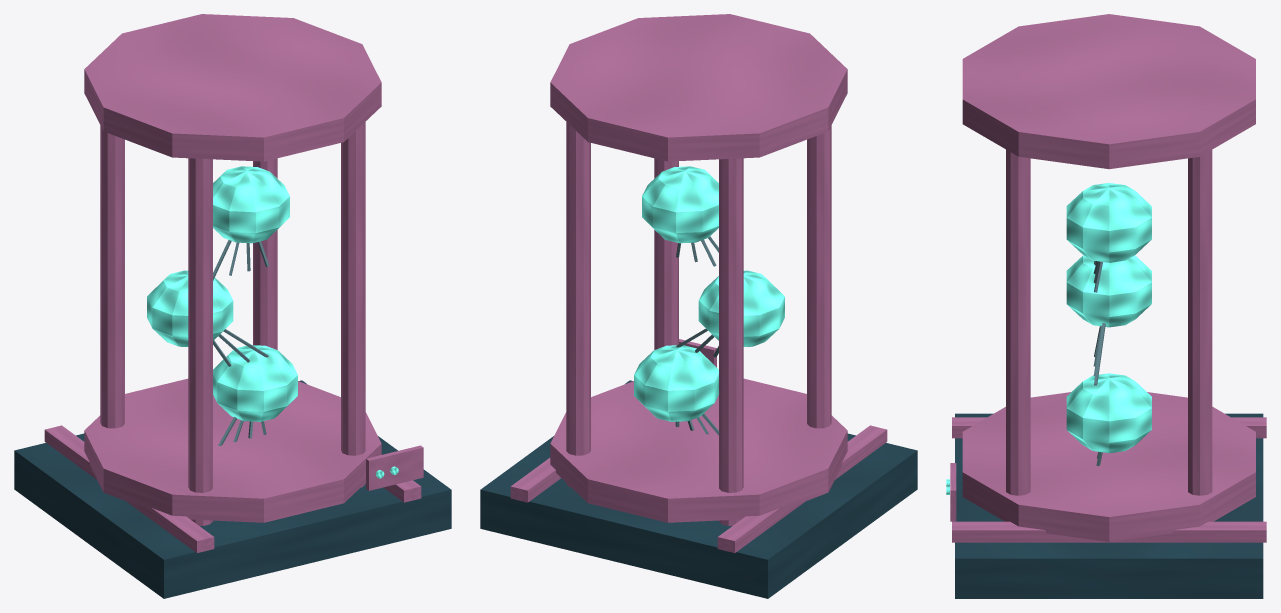
The model's file is atlas100-s065-a01.glb.
3 views of the same model, side by side, from view 1: azimuth 30°, elevation 25°; view 2: azimuth 150°, elevation 25°; view 3: azimuth 270°, elevation 25° (orthographic). The views are drawn at different scales.
Parts seen in each view (by area): view 1: atlas100-s065-a01:part-004, atlas100-s065-a01:part-003, atlas100-s065-a01:part-000, atlas100-s065-a01:part-007, atlas100-s065-a01:part-005, atlas100-s065-a01:part-009, atlas100-s065-a01:part-013, atlas100-s065-a01:part-023, atlas100-s065-a01:part-018, atlas100-s065-a01:part-011, atlas100-s065-a01:part-001, atlas100-s065-a01:part-028; view 2: atlas100-s065-a01:part-004, atlas100-s065-a01:part-003, atlas100-s065-a01:part-000, atlas100-s065-a01:part-009, atlas100-s065-a01:part-011, atlas100-s065-a01:part-007, atlas100-s065-a01:part-013, atlas100-s065-a01:part-023, atlas100-s065-a01:part-018, atlas100-s065-a01:part-005, atlas100-s065-a01:part-001, atlas100-s065-a01:part-002; view 3: atlas100-s065-a01:part-004, atlas100-s065-a01:part-003, atlas100-s065-a01:part-000, atlas100-s065-a01:part-011, atlas100-s065-a01:part-005, atlas100-s065-a01:part-023, atlas100-s065-a01:part-013, atlas100-s065-a01:part-018, atlas100-s065-a01:part-002, atlas100-s065-a01:part-001.
Part boxes in pixels (<box>): atlas100-s065-a01:part-004: <box>84,14,381,161</box>; atlas100-s065-a01:part-003: <box>84,378,381,522</box>; atlas100-s065-a01:part-000: <box>14,380,451,598</box>; atlas100-s065-a01:part-007: <box>188,158,212,525</box>; atlas100-s065-a01:part-005: <box>341,122,365,487</box>; atlas100-s065-a01:part-009: <box>100,125,124,428</box>; atlas100-s065-a01:part-013: <box>213,345,297,421</box>; atlas100-s065-a01:part-023: <box>213,166,289,243</box>; atlas100-s065-a01:part-018: <box>147,270,233,346</box>; atlas100-s065-a01:part-011: <box>253,158,277,349</box>; atlas100-s065-a01:part-001: <box>44,425,214,552</box>; atlas100-s065-a01:part-028: <box>366,445,423,490</box>; atlas100-s065-a01:part-004: <box>550,14,847,161</box>; atlas100-s065-a01:part-003: <box>550,378,847,522</box>; atlas100-s065-a01:part-000: <box>480,380,917,598</box>; atlas100-s065-a01:part-009: <box>719,158,743,525</box>; atlas100-s065-a01:part-011: <box>566,122,590,487</box>; atlas100-s065-a01:part-007: <box>807,125,831,428</box>; atlas100-s065-a01:part-013: <box>634,345,718,421</box>; atlas100-s065-a01:part-023: <box>642,166,718,243</box>; atlas100-s065-a01:part-018: <box>698,270,784,346</box>; atlas100-s065-a01:part-005: <box>654,158,678,349</box>; atlas100-s065-a01:part-001: <box>717,425,887,552</box>; atlas100-s065-a01:part-002: <box>510,458,560,502</box>; atlas100-s065-a01:part-004: <box>962,14,1255,169</box>; atlas100-s065-a01:part-003: <box>962,392,1255,541</box>; atlas100-s065-a01:part-000: <box>955,413,1263,598</box>; atlas100-s065-a01:part-011: <box>1188,150,1212,495</box>; atlas100-s065-a01:part-005: <box>1006,149,1030,495</box>; atlas100-s065-a01:part-023: <box>1066,183,1151,262</box>; atlas100-s065-a01:part-013: <box>1066,373,1151,453</box>; atlas100-s065-a01:part-018: <box>1066,255,1151,327</box>; atlas100-s065-a01:part-002: <box>952,521,1266,542</box>; atlas100-s065-a01:part-001: <box>952,417,1266,438</box>.
Bounding box in the file's own units: 2 × 2.88 × 1.87.
4 materials, 4 textured.
